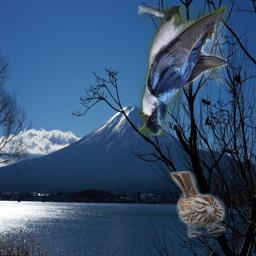Sparrow: (170, 171, 225, 238)
Swallow: (138, 6, 227, 136)
